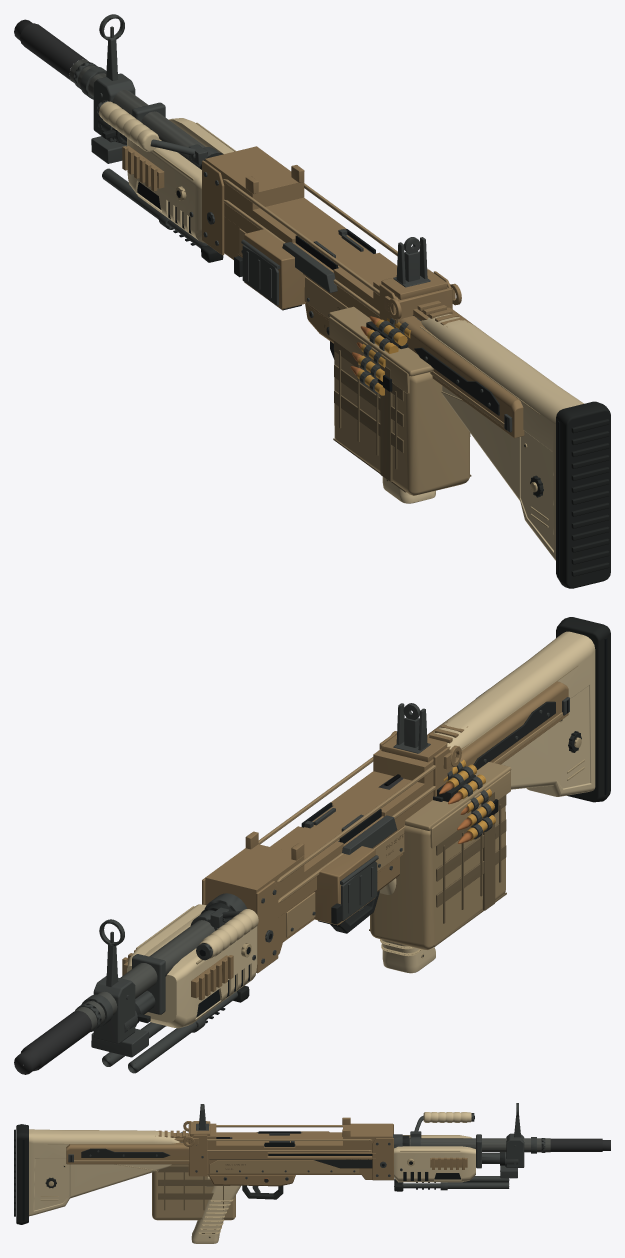
File: weapon-4-1vkvU3Eb.glb
The picture shows the model from 3 angles, top to bottom: view 1: azimuth 30°, elevation 25°; view 2: azimuth 150°, elevation 25°; view 3: azimuth 270°, elevation 25°; orthographic projection. The views are drawn at different scales.
Visible parts, largest first — view 1: salient_weapon_body, salient_weapon_magazine, salient_weapon_cover, salient_weapon_belt, salient_weapon_iron; view 2: salient_weapon_body, salient_weapon_magazine, salient_weapon_cover, salient_weapon_belt, salient_weapon_iron; view 3: salient_weapon_body, salient_weapon_magazine, salient_weapon_cover, salient_weapon_iron.
Part boxes in pixels (bbox=[...]): salient_weapon_body: bbox=[14, 14, 610, 588]; salient_weapon_magazine: bbox=[329, 306, 471, 495]; salient_weapon_cover: bbox=[399, 300, 524, 438]; salient_weapon_belt: bbox=[350, 316, 420, 395]; salient_weapon_iron: bbox=[110, 26, 430, 287]; salient_weapon_body: bbox=[14, 617, 610, 1074]; salient_weapon_magazine: bbox=[369, 762, 511, 949]; salient_weapon_cover: bbox=[427, 681, 569, 769]; salient_weapon_belt: bbox=[439, 759, 495, 843]; salient_weapon_iron: bbox=[110, 703, 430, 943]; salient_weapon_body: bbox=[14, 1103, 610, 1243]; salient_weapon_magazine: bbox=[152, 1164, 235, 1220]; salient_weapon_cover: bbox=[66, 1130, 189, 1164]; salient_weapon_iron: bbox=[196, 1104, 209, 1130].
Size of the model in its own units: 0.1004 by 0.2492 by 0.991.
